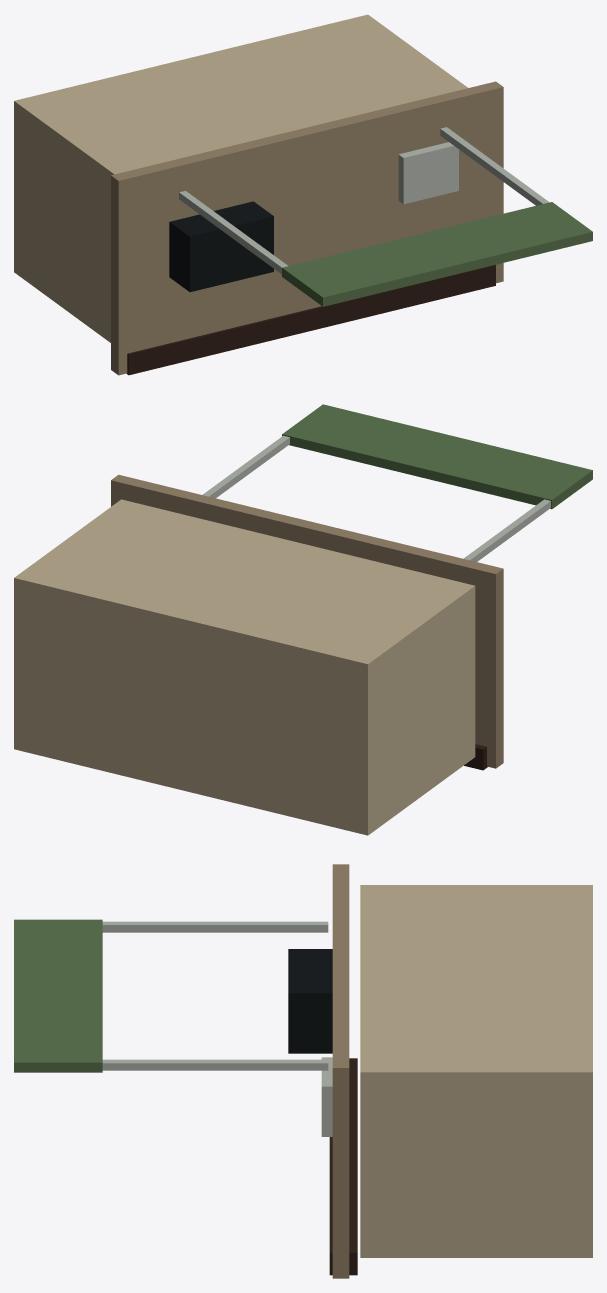
Rendered from SM_BSW_KidsSalesDesk.obj.
3 views of the same model, one above another, from view 1: azimuth 30°, elevation 25°; view 2: azimuth 150°, elevation 25°; view 3: azimuth 270°, elevation 25° (orthographic). The views are drawn at different scales.
Visible parts, largest first — view 1: SM_BSW_KidsSalesDesk; view 2: SM_BSW_KidsSalesDesk; view 3: SM_BSW_KidsSalesDesk.
Part boxes in pixels (x1,y1,x2,y2): SM_BSW_KidsSalesDesk: (14, 14, 592, 375); SM_BSW_KidsSalesDesk: (14, 404, 592, 835); SM_BSW_KidsSalesDesk: (14, 864, 592, 1278).
Size of the model in its own units: 174 by 84.5 by 209.
